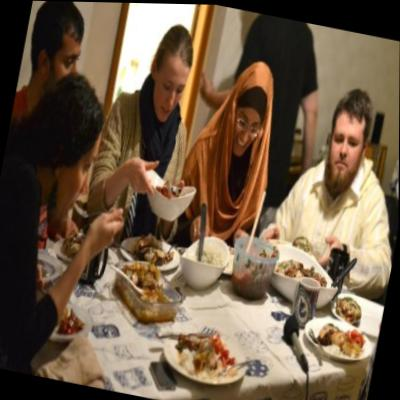happy: (150, 51, 189, 126), (229, 99, 264, 157)
netural: (324, 105, 367, 186)
